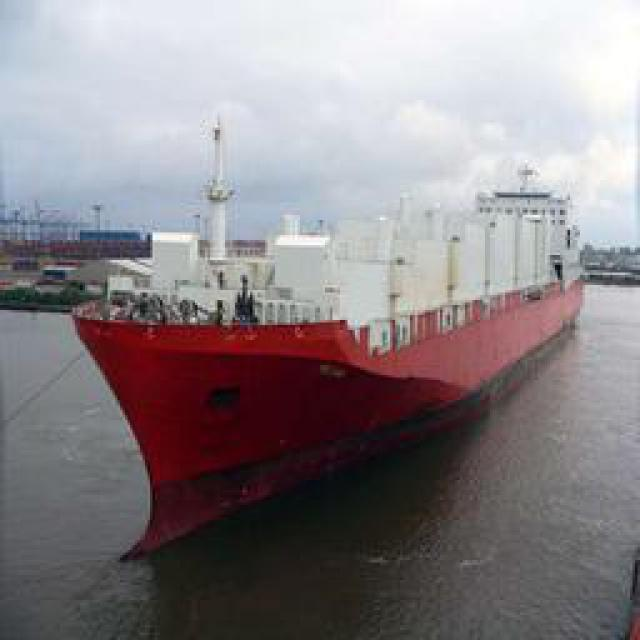Ship: (72, 159, 592, 569)
